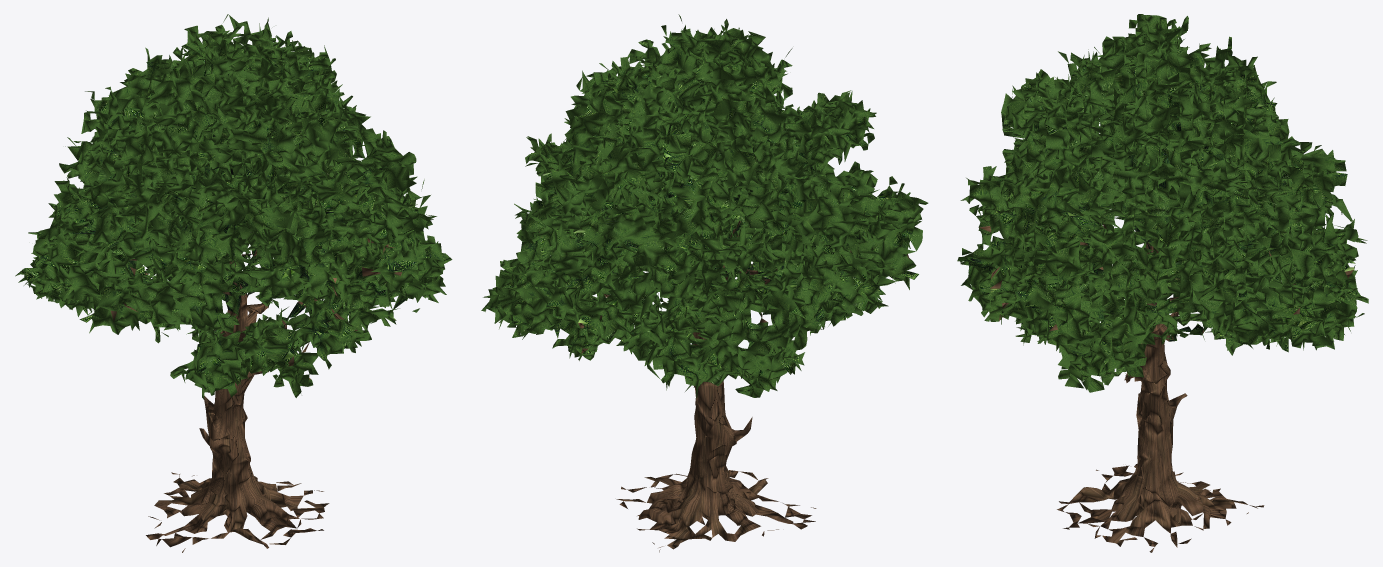
File: arvore.glb
The picture shows the model from 3 angles, left to right: view 1: azimuth 30°, elevation 25°; view 2: azimuth 150°, elevation 25°; view 3: azimuth 270°, elevation 25°; orthographic projection.
Parts seen in each view (by area): view 1: mesh_node; view 2: mesh_node; view 3: mesh_node.
Boxes of the visible parts, <box> form: mesh_node: <box>15,14,452,552</box>; mesh_node: <box>481,14,928,552</box>; mesh_node: <box>957,14,1368,552</box>.
Bounding box in the file's own units: 1.53 × 1.9 × 1.45.
2 materials, 2 textured.
